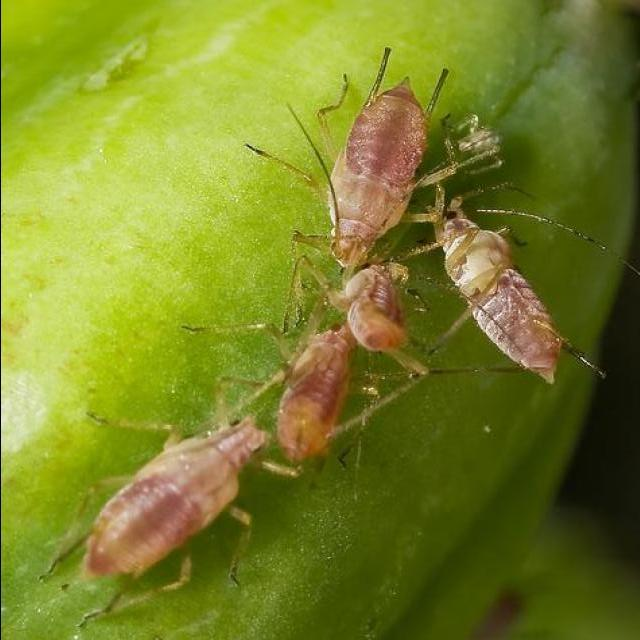aphid: (50, 393, 282, 593), (428, 182, 586, 392), (302, 61, 430, 260)
